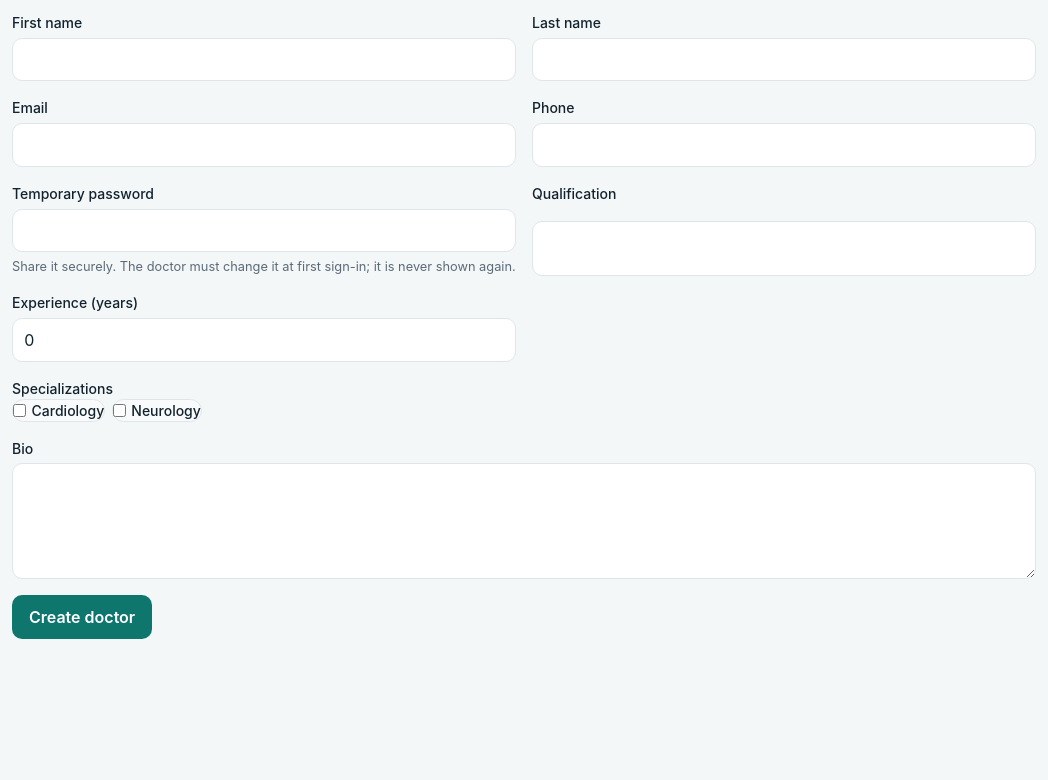
Scenario: DoctorForm › requires a specialization and a strong temporary password
This screenshot has width=1048, height=780.
expect the text "Cardiology" is shown: met, box [12,398,105,422]
Step 1. Type "Grace" into the field labelled "First name" → {"x": 264, "y": 60}, box [12,38,516,81]
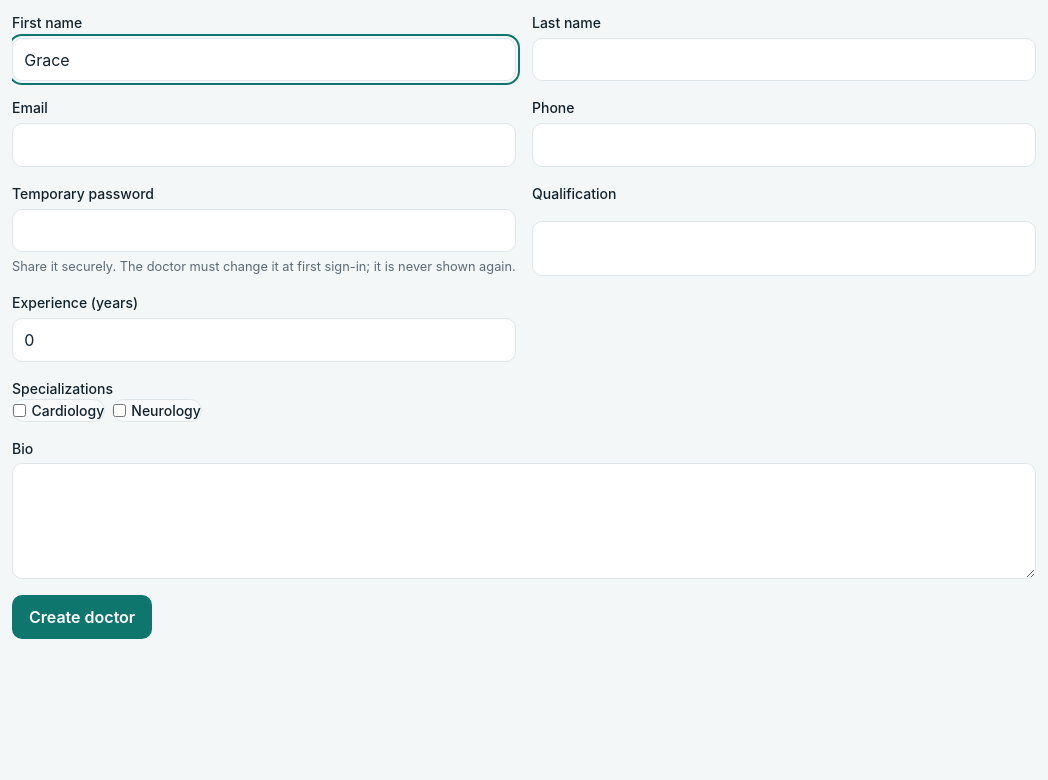
Step 2. Type "grace@example.com" into the field labelled "Email" → {"x": 264, "y": 145}, box [12,123,516,167]
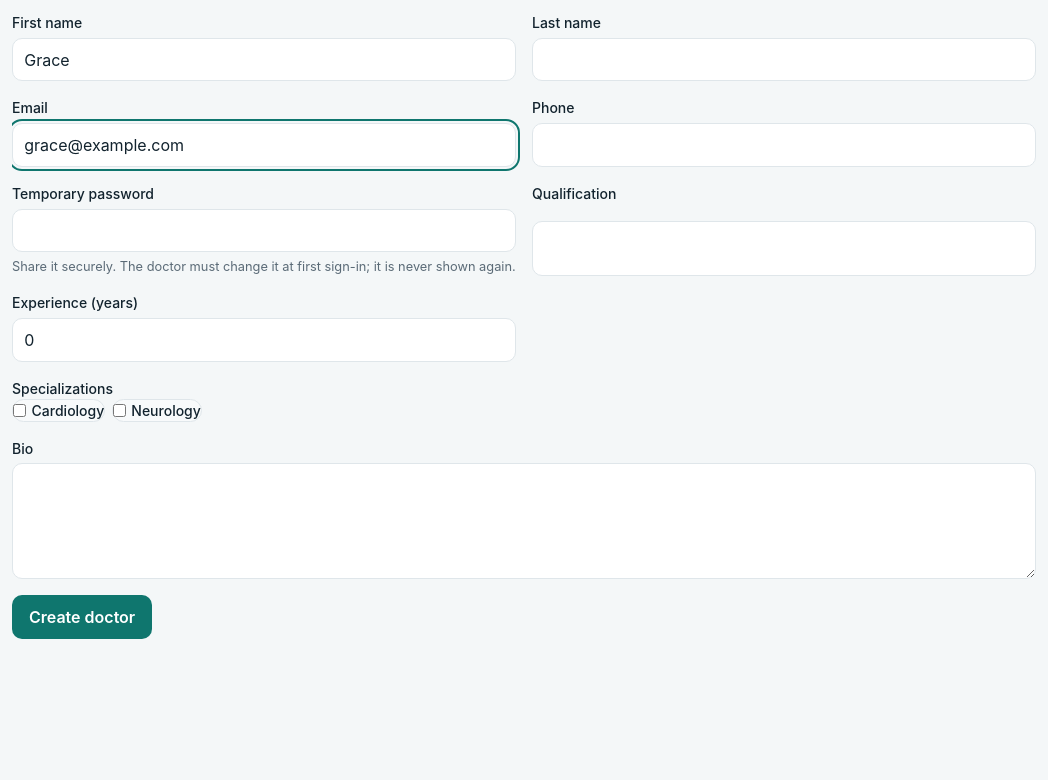
Step 3. Type "short" into the password field labelled "Temporary password" → {"x": 264, "y": 230}, box [12,209,516,252]
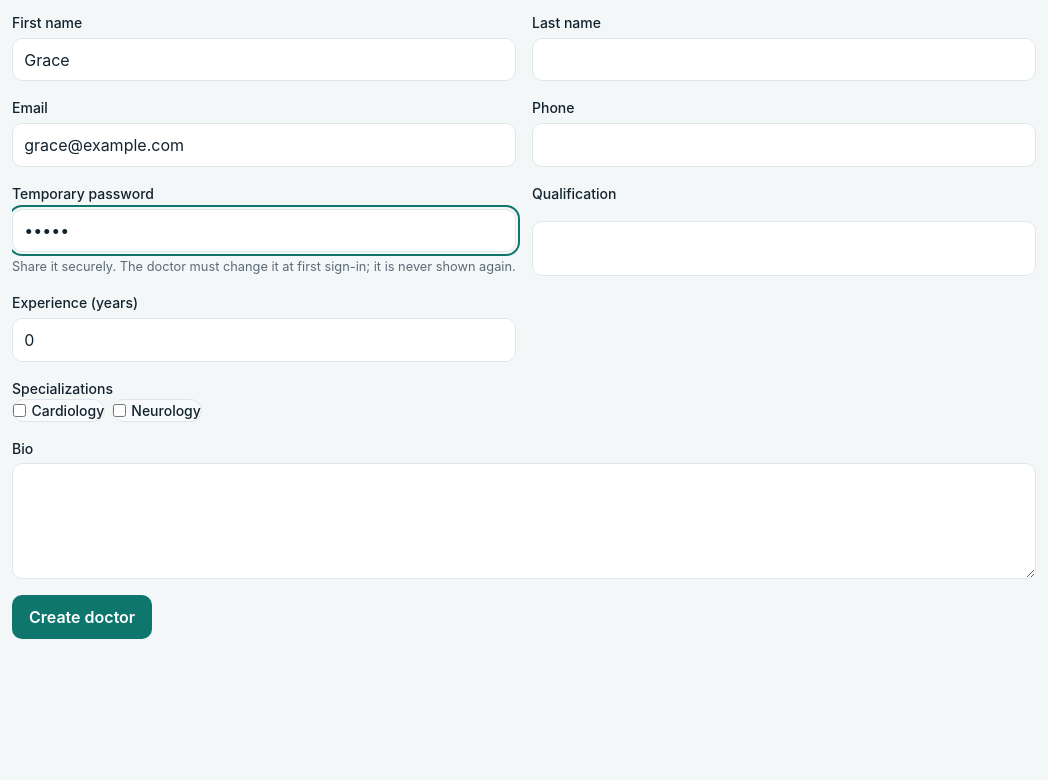
Step 4. Click the button "Create doctor" → {"x": 82, "y": 617}, box [12,595,152,638]
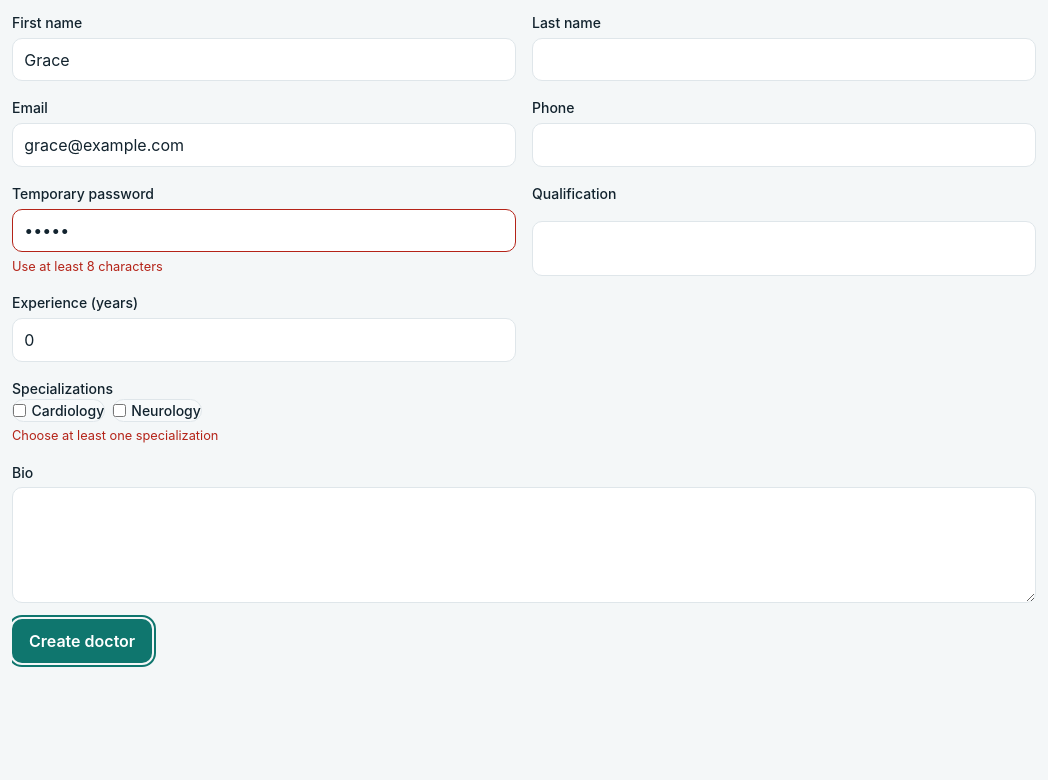
expect the text "Choose at least one specialization" is shown: met, box [12,428,218,443]
expect the text "Use at least 8 characters" is shown: met, box [12,259,163,274]
